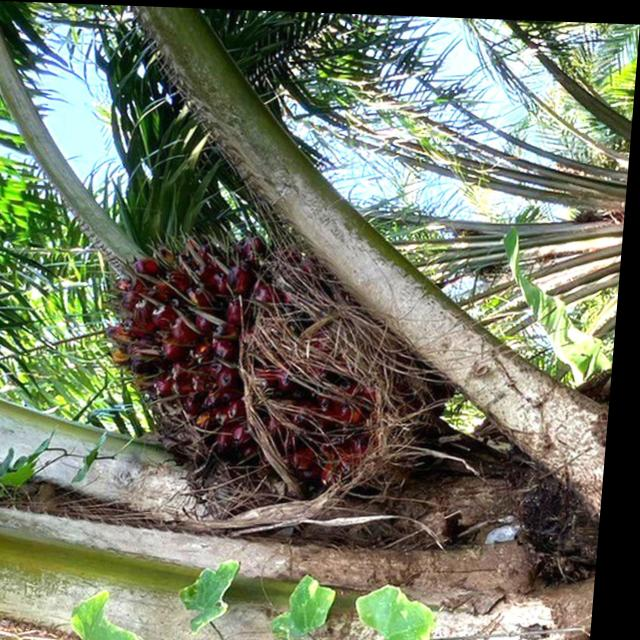ripe: (106, 226, 443, 503)
